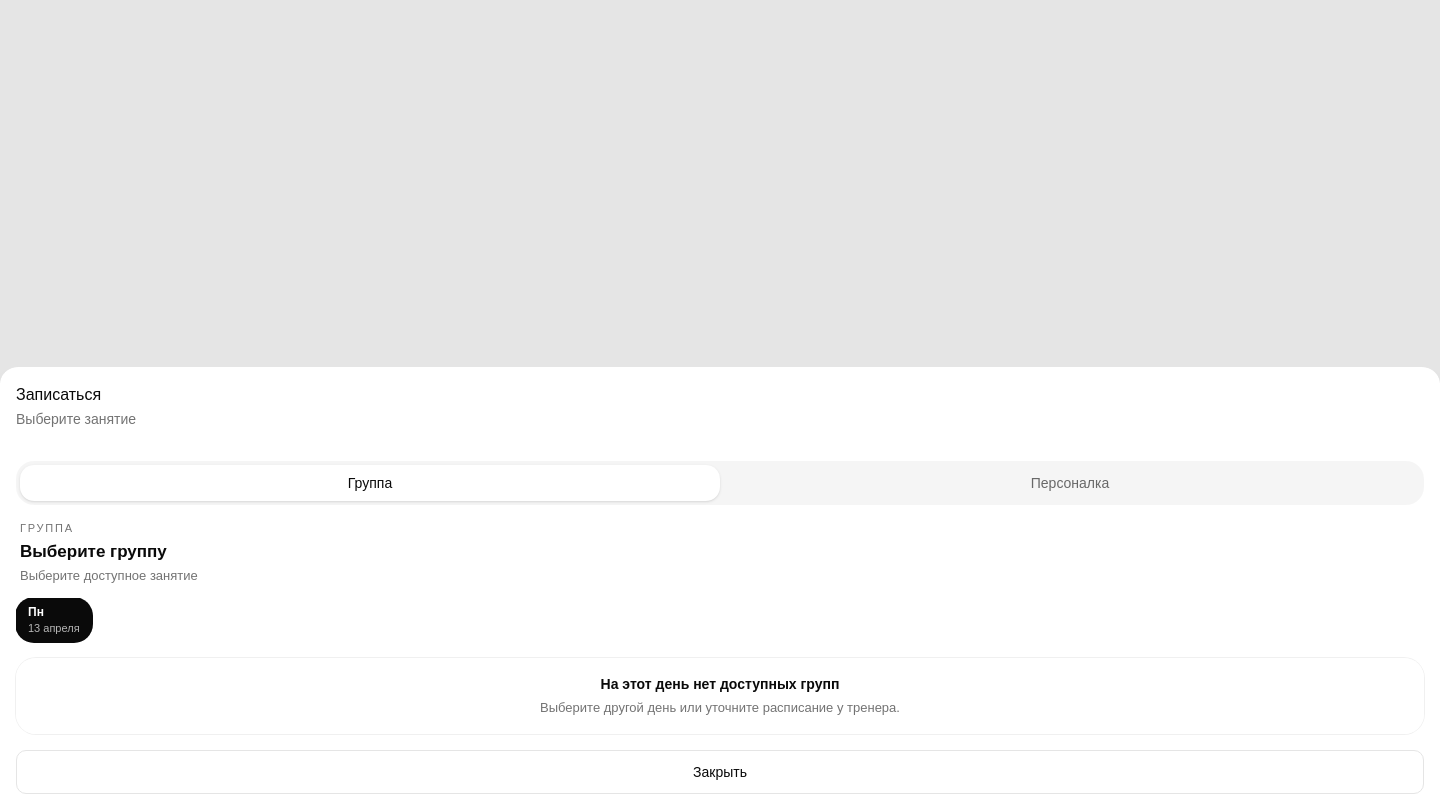
Test case: GuestSelfBookingSheet › shows manual-review reservations with the exact refreshable order
Click the tab "Персоналка": point(1070, 483) [720,465,1420,501]
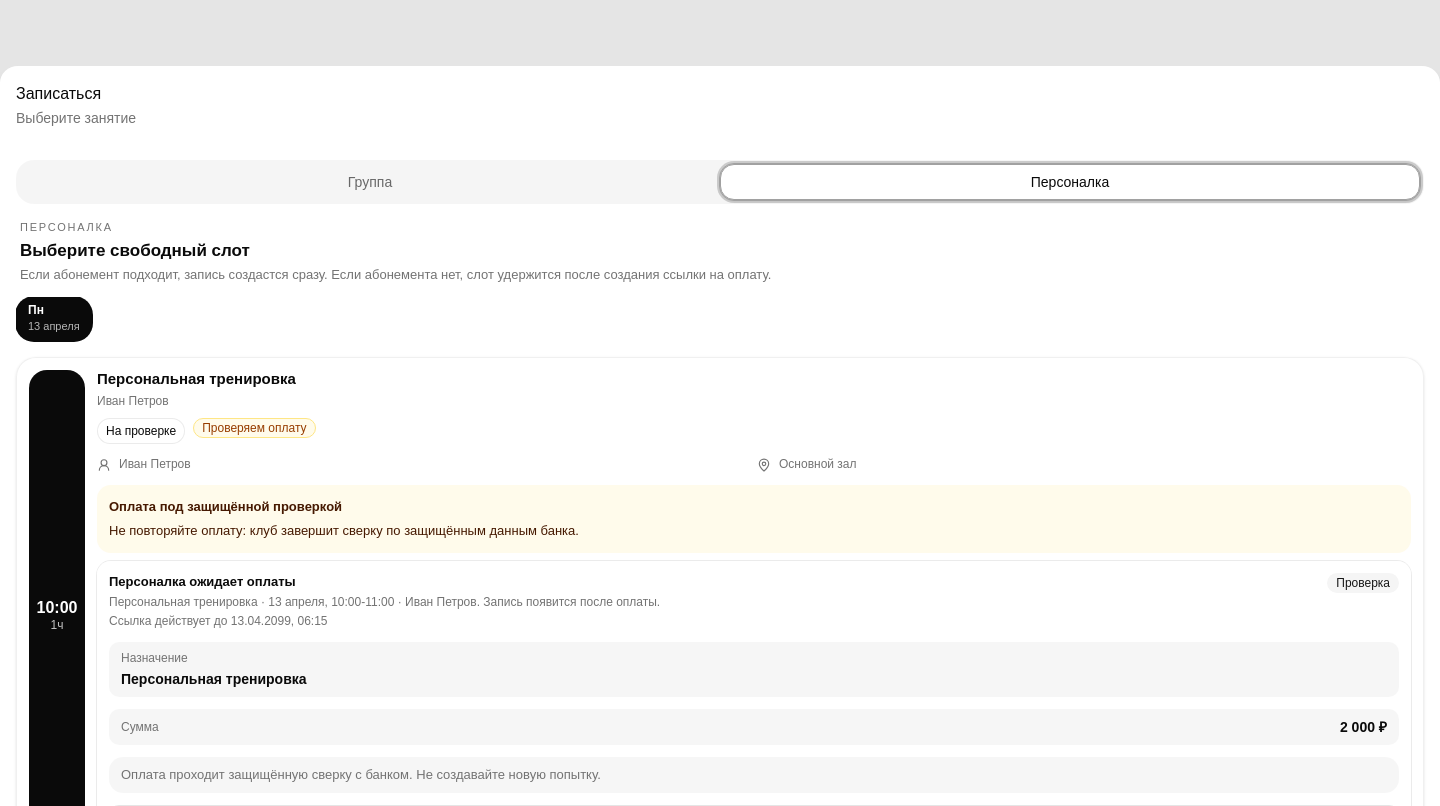
Expected: the text "На проверке" is shown, [97,418,185,444]
Expected: the text "Проверяем оплату" is shown, [193,418,316,438]
Expected: the text "Оплата под защищённой проверкой" is shown, [109,499,342,514]
